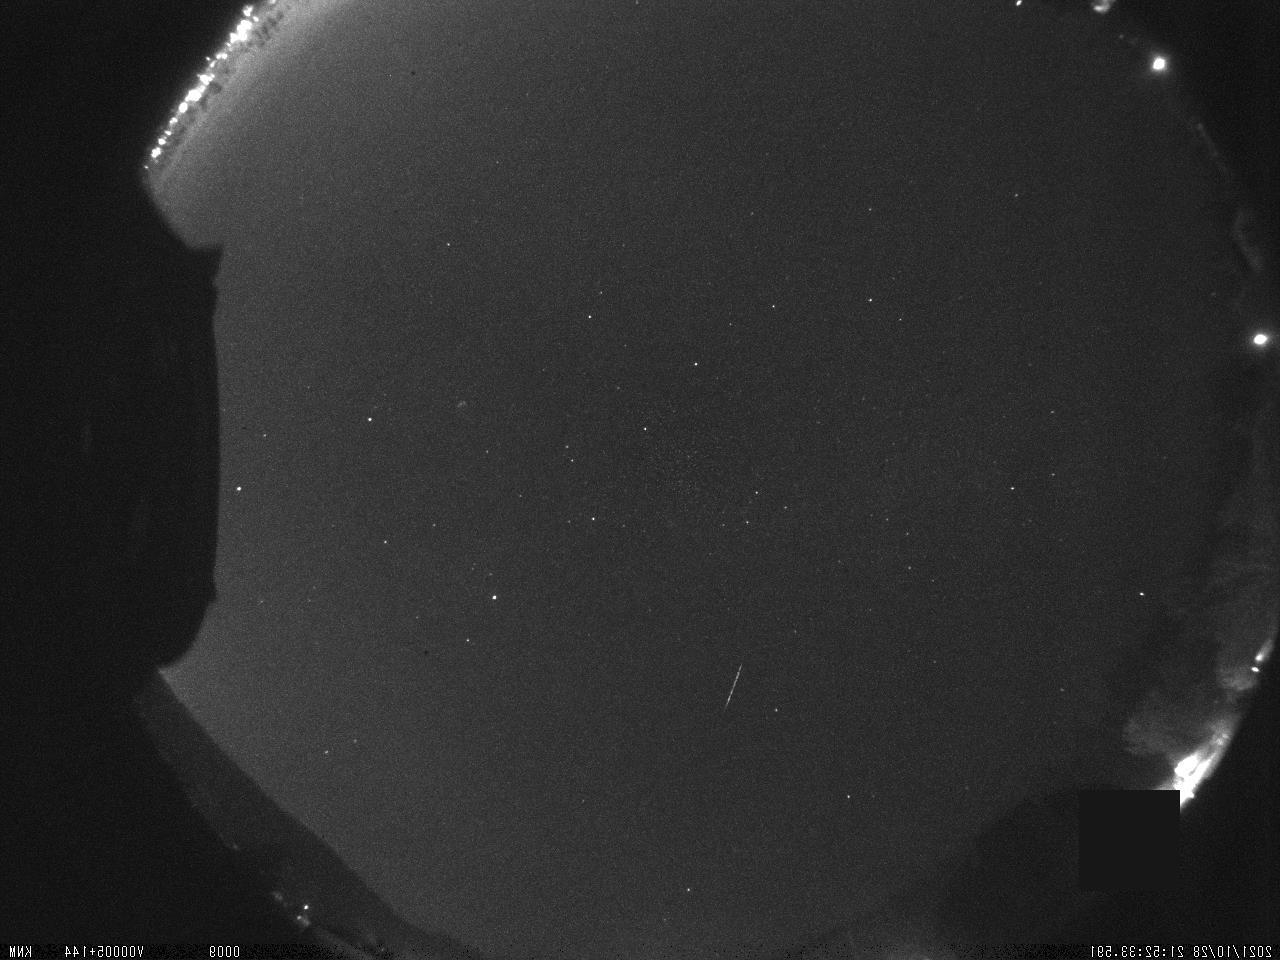meteor: (714, 655, 749, 719)
